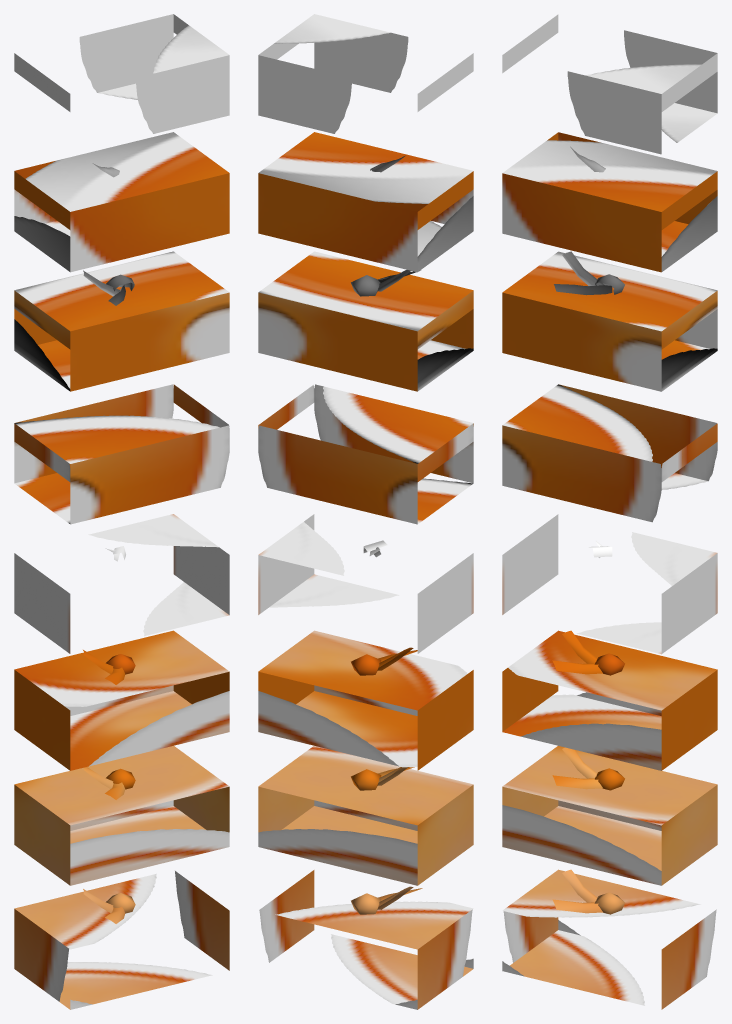
File: ef_Drop_Item.FBX
3 renders of one model, left to right at view 1: azimuth 30°, elevation 25°; view 2: azimuth 150°, elevation 25°; view 3: azimuth 330°, elevation 25°, orthographic.
Visible parts, largest first — view 1: ef_Drop_Item02, ef_Drop_Item05, ef_Drop_Item06, ef_Drop_Item01, ef_Drop_Item04, ef_Drop_Item00, ef_Drop_Item07, ef_Drop_Item03; view 2: ef_Drop_Item05, ef_Drop_Item02, ef_Drop_Item01, ef_Drop_Item06, ef_Drop_Item04, ef_Drop_Item00, ef_Drop_Item07, ef_Drop_Item03; view 3: ef_Drop_Item05, ef_Drop_Item06, ef_Drop_Item01, ef_Drop_Item02, ef_Drop_Item04, ef_Drop_Item00, ef_Drop_Item07, ef_Drop_Item03.
Boxes of the visible parts, <box> form: ef_Drop_Item02: <box>14,630,229,770</box>; ef_Drop_Item05: <box>14,251,229,391</box>; ef_Drop_Item06: <box>14,132,229,272</box>; ef_Drop_Item01: <box>14,745,229,885</box>; ef_Drop_Item04: <box>14,384,229,524</box>; ef_Drop_Item00: <box>14,871,229,1009</box>; ef_Drop_Item07: <box>14,14,229,133</box>; ef_Drop_Item03: <box>14,514,229,653</box>; ef_Drop_Item05: <box>258,251,473,391</box>; ef_Drop_Item02: <box>258,630,473,770</box>; ef_Drop_Item01: <box>258,745,473,885</box>; ef_Drop_Item06: <box>258,132,473,272</box>; ef_Drop_Item04: <box>258,384,473,524</box>; ef_Drop_Item00: <box>259,870,473,1009</box>; ef_Drop_Item07: <box>258,14,473,133</box>; ef_Drop_Item03: <box>258,514,473,653</box>; ef_Drop_Item05: <box>502,251,717,391</box>; ef_Drop_Item06: <box>502,132,717,272</box>; ef_Drop_Item01: <box>502,746,717,885</box>; ef_Drop_Item02: <box>502,630,717,770</box>; ef_Drop_Item04: <box>502,384,717,522</box>; ef_Drop_Item00: <box>502,869,716,1009</box>; ef_Drop_Item07: <box>502,14,717,154</box>; ef_Drop_Item03: <box>502,514,717,654</box>.
Bounding box in the file's own units: 23.63 × 14.41 × 134.
